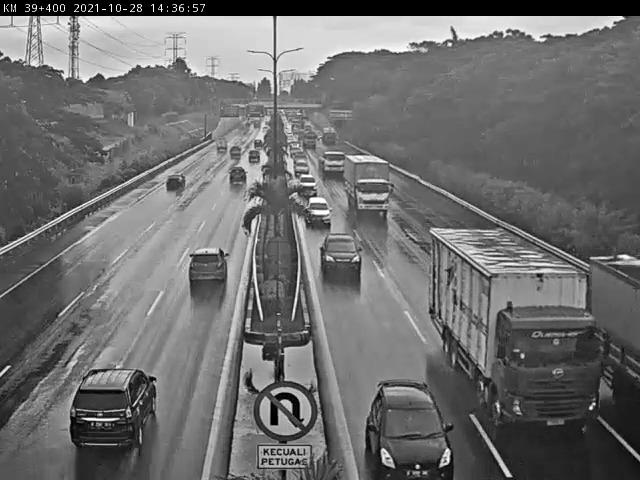big truck: (476, 271, 589, 416), (348, 154, 388, 222), (320, 150, 342, 170)
car: (382, 381, 462, 471), (57, 362, 145, 427), (181, 240, 231, 300), (324, 232, 356, 286), (311, 188, 330, 227), (157, 178, 181, 200), (227, 172, 247, 193), (300, 174, 315, 187)
